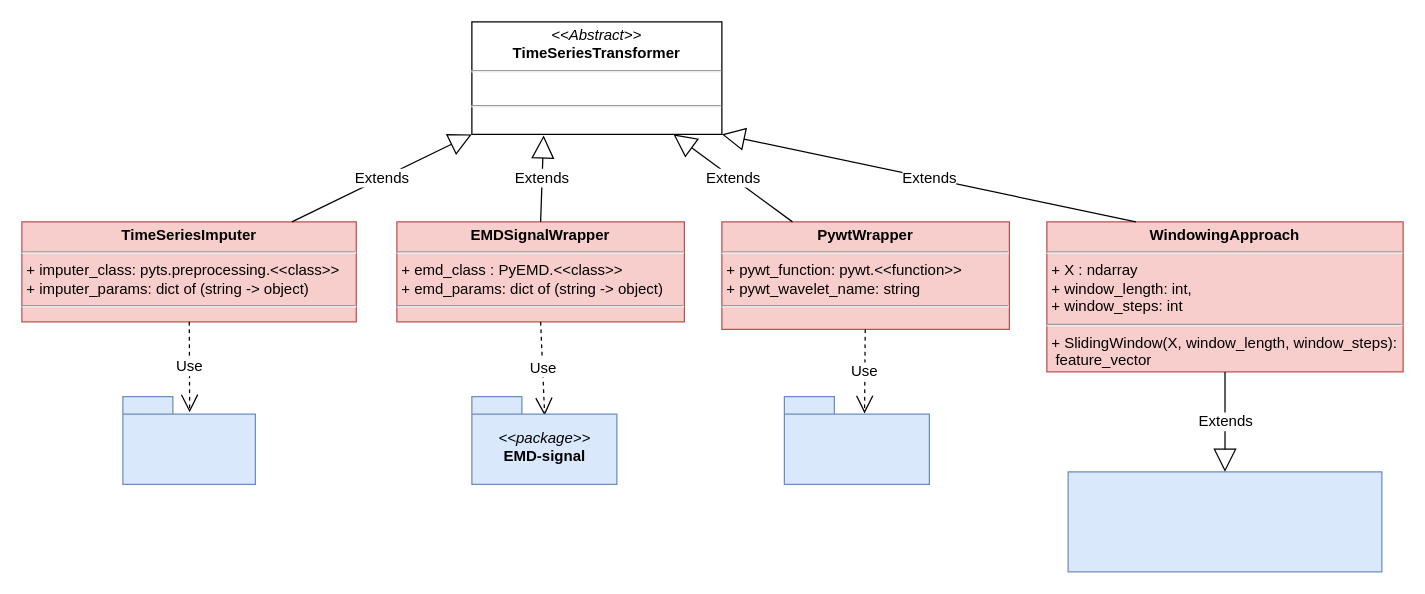
Some shapes in this 1425 by 594 pixel diagram are drawn without their labels. The shapes that lost their labels are listed below. From the top down, each one's centre as x and y in pixels, then its label:
At (x=188, y=439): "<<package>> pyts".
At (x=856, y=439): "<<package>> pywt".
At (x=1224, y=521): "<<Abstract>> sklearn.model_selection.TimeSeriesSplit".
